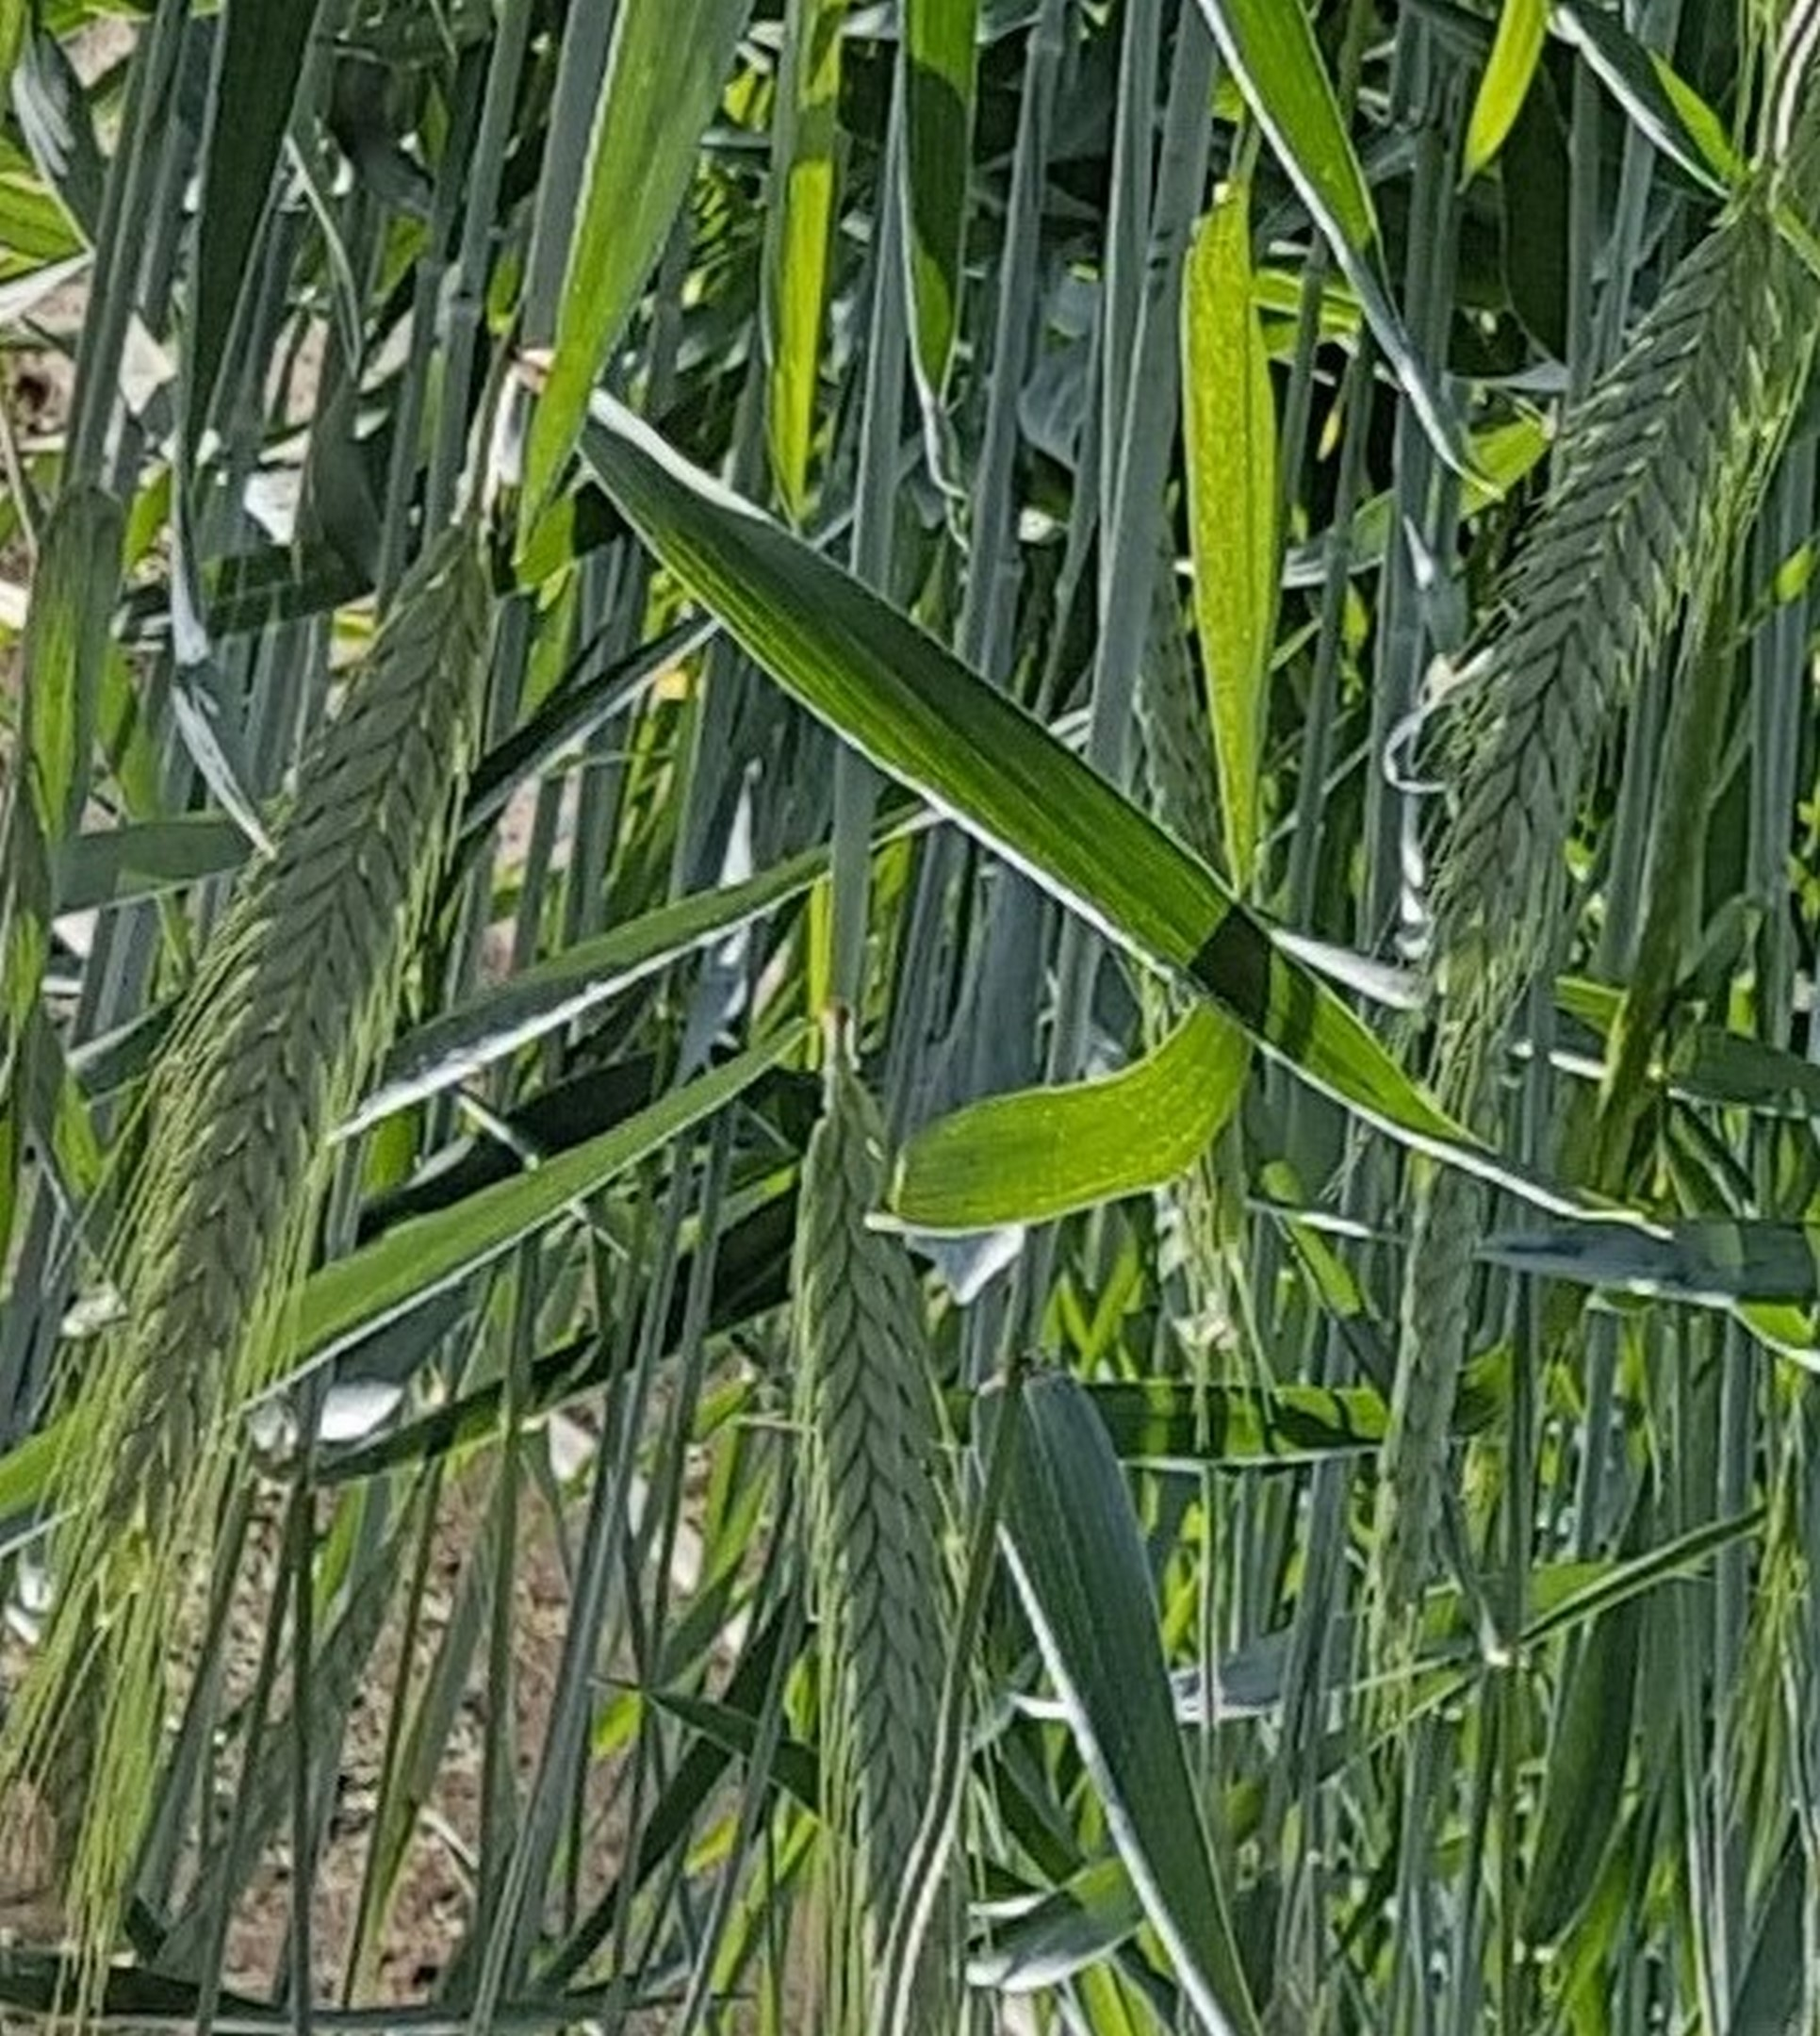Healthy Wheat: (77, 538, 518, 1520), (1393, 202, 1820, 919), (780, 1047, 994, 1902)
